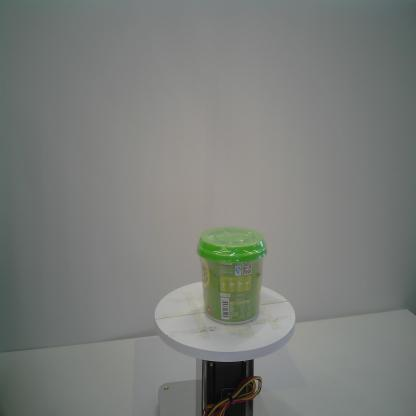Instant Drink: (194, 224, 272, 327)
